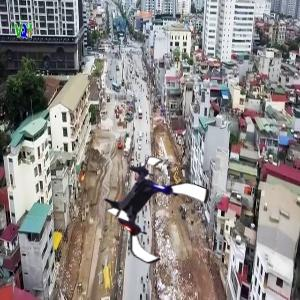drone: (99, 158, 207, 266)
